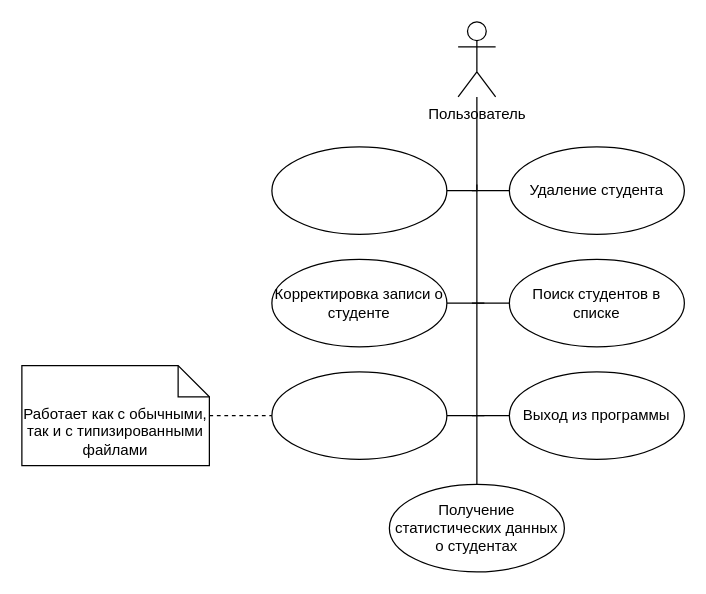
This 706x594 diagram has some shape labels left out. The shapes that lost their labels are listed below. From the top down, each one's centre as x and y in pixels, then its label:
point 359,190: Добавление нового студента
point 359,415: Сохранение и загрузка студентов из файлов
